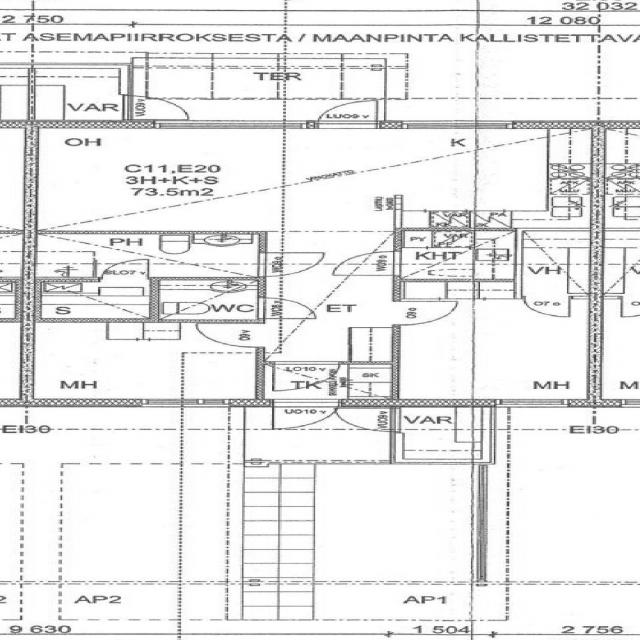door: (274, 399, 339, 434), (274, 362, 340, 391), (319, 97, 378, 128), (124, 96, 192, 120), (332, 408, 400, 432), (257, 252, 324, 276), (334, 252, 401, 275), (392, 302, 459, 325), (198, 324, 264, 347), (256, 298, 316, 319), (525, 296, 571, 318), (103, 260, 148, 279)
